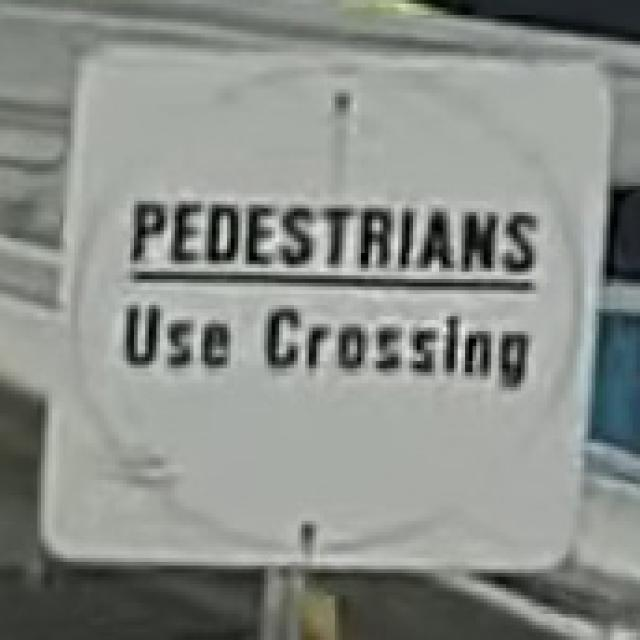pedestriancrossing_sign: (37, 34, 614, 574)
